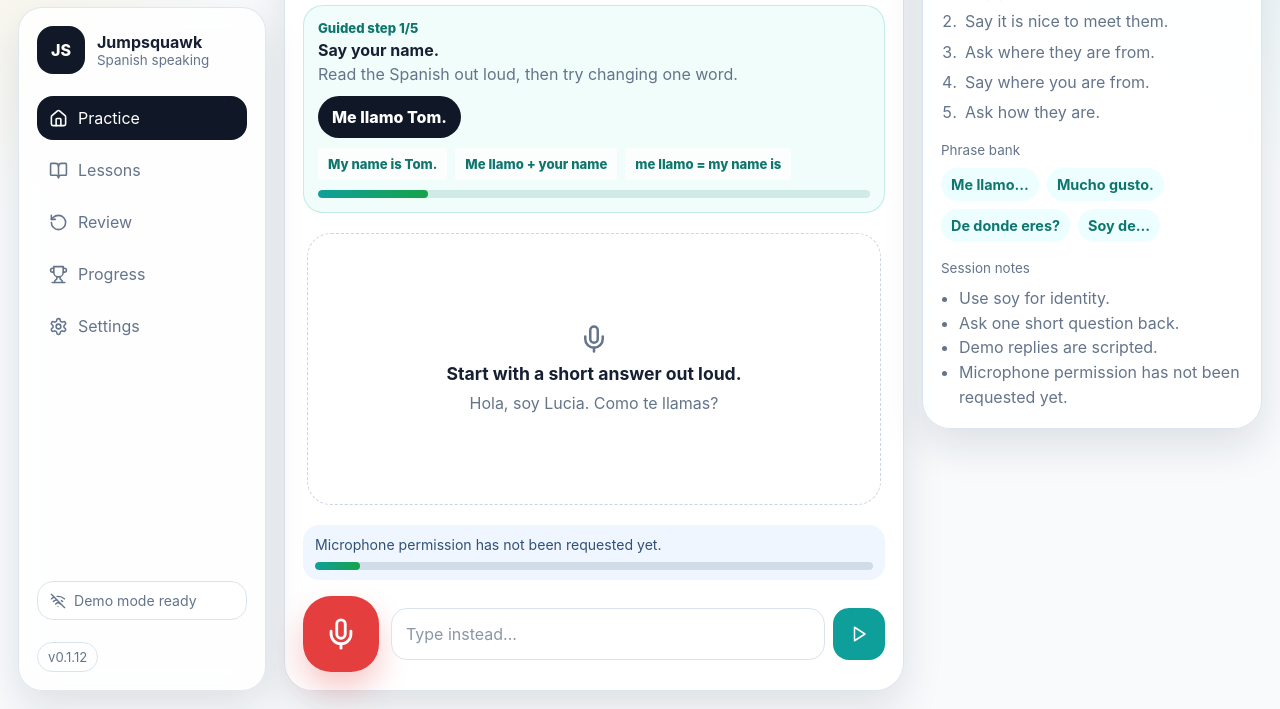
Test: App › starts browser speech recognition without pre-opening getUserMedia
(page scrolled)
Click the button named "Start microphone practice" at [341, 634], box [303,596,379,672]
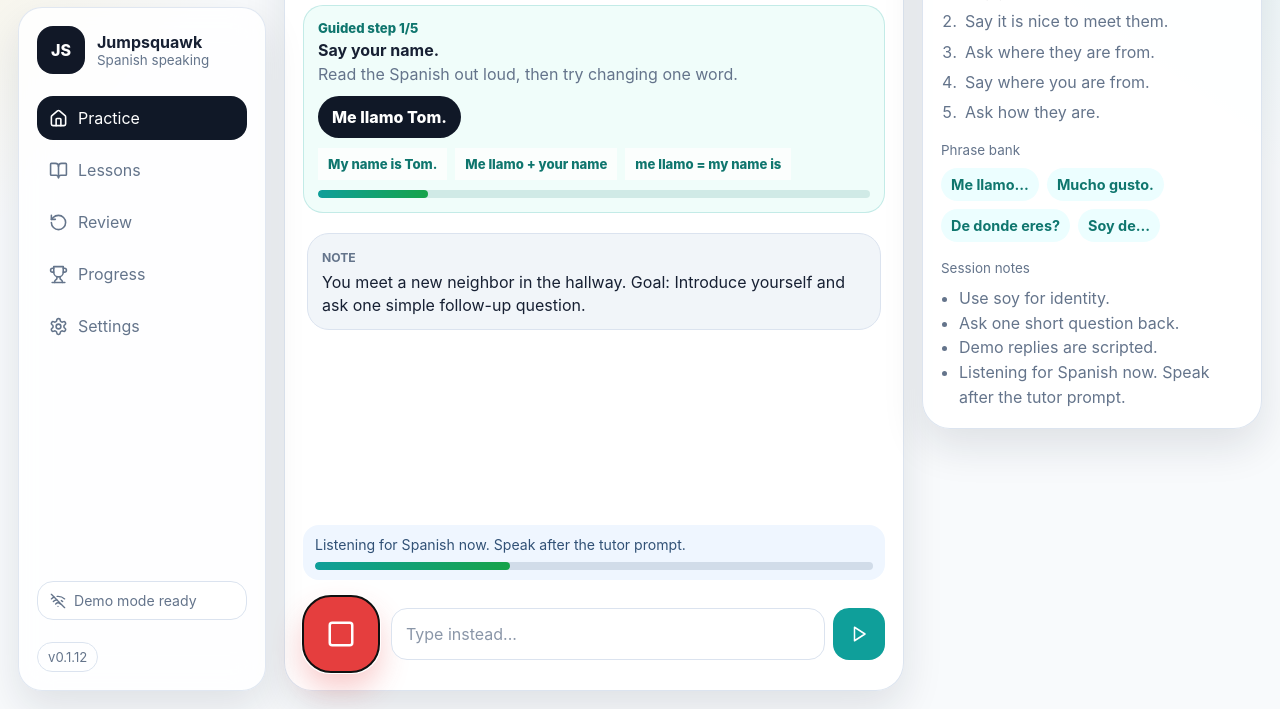
Result: the text "Listening for Spanish now. Speak after the tutor prompt." is shown at [315,536,686,553]
